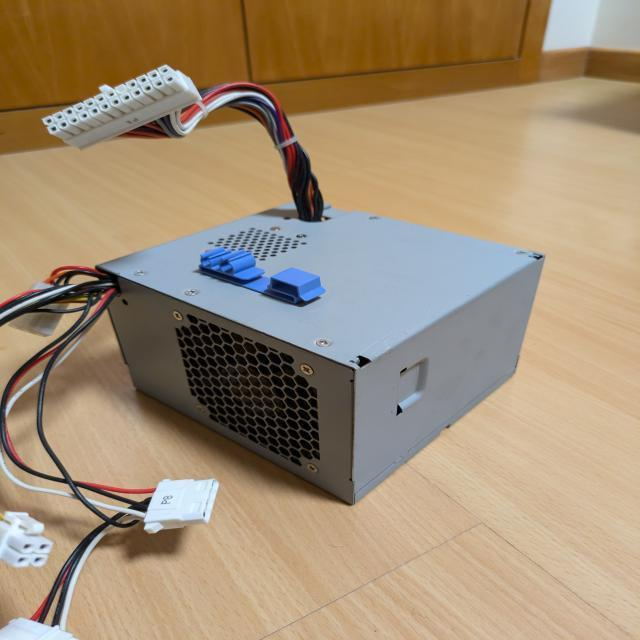PSU: (95, 198, 547, 506)
